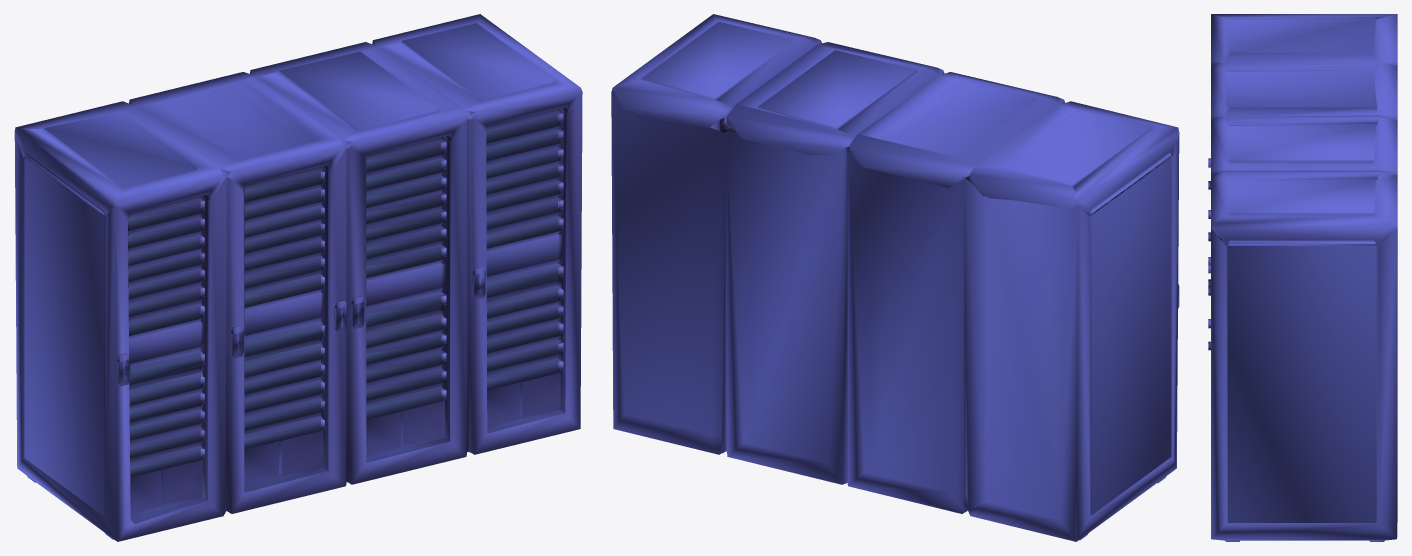
Rendered from model.progressive.glb.
The picture shows the model from 3 angles, left to right: view 1: azimuth 30°, elevation 25°; view 2: azimuth 150°, elevation 25°; view 3: azimuth 270°, elevation 25°; orthographic projection. The views are drawn at different scales.
Visible parts, largest first — view 1: material; view 2: material; view 3: material.
Boxes of the visible parts, box(x1,y1,x2,y2) form: material: box(14, 14, 582, 541); material: box(611, 14, 1179, 541); material: box(1208, 14, 1397, 541).
Bounding box in the file's own units: 1.9 × 1.35 × 0.7152.
1 material, 1 textured.
